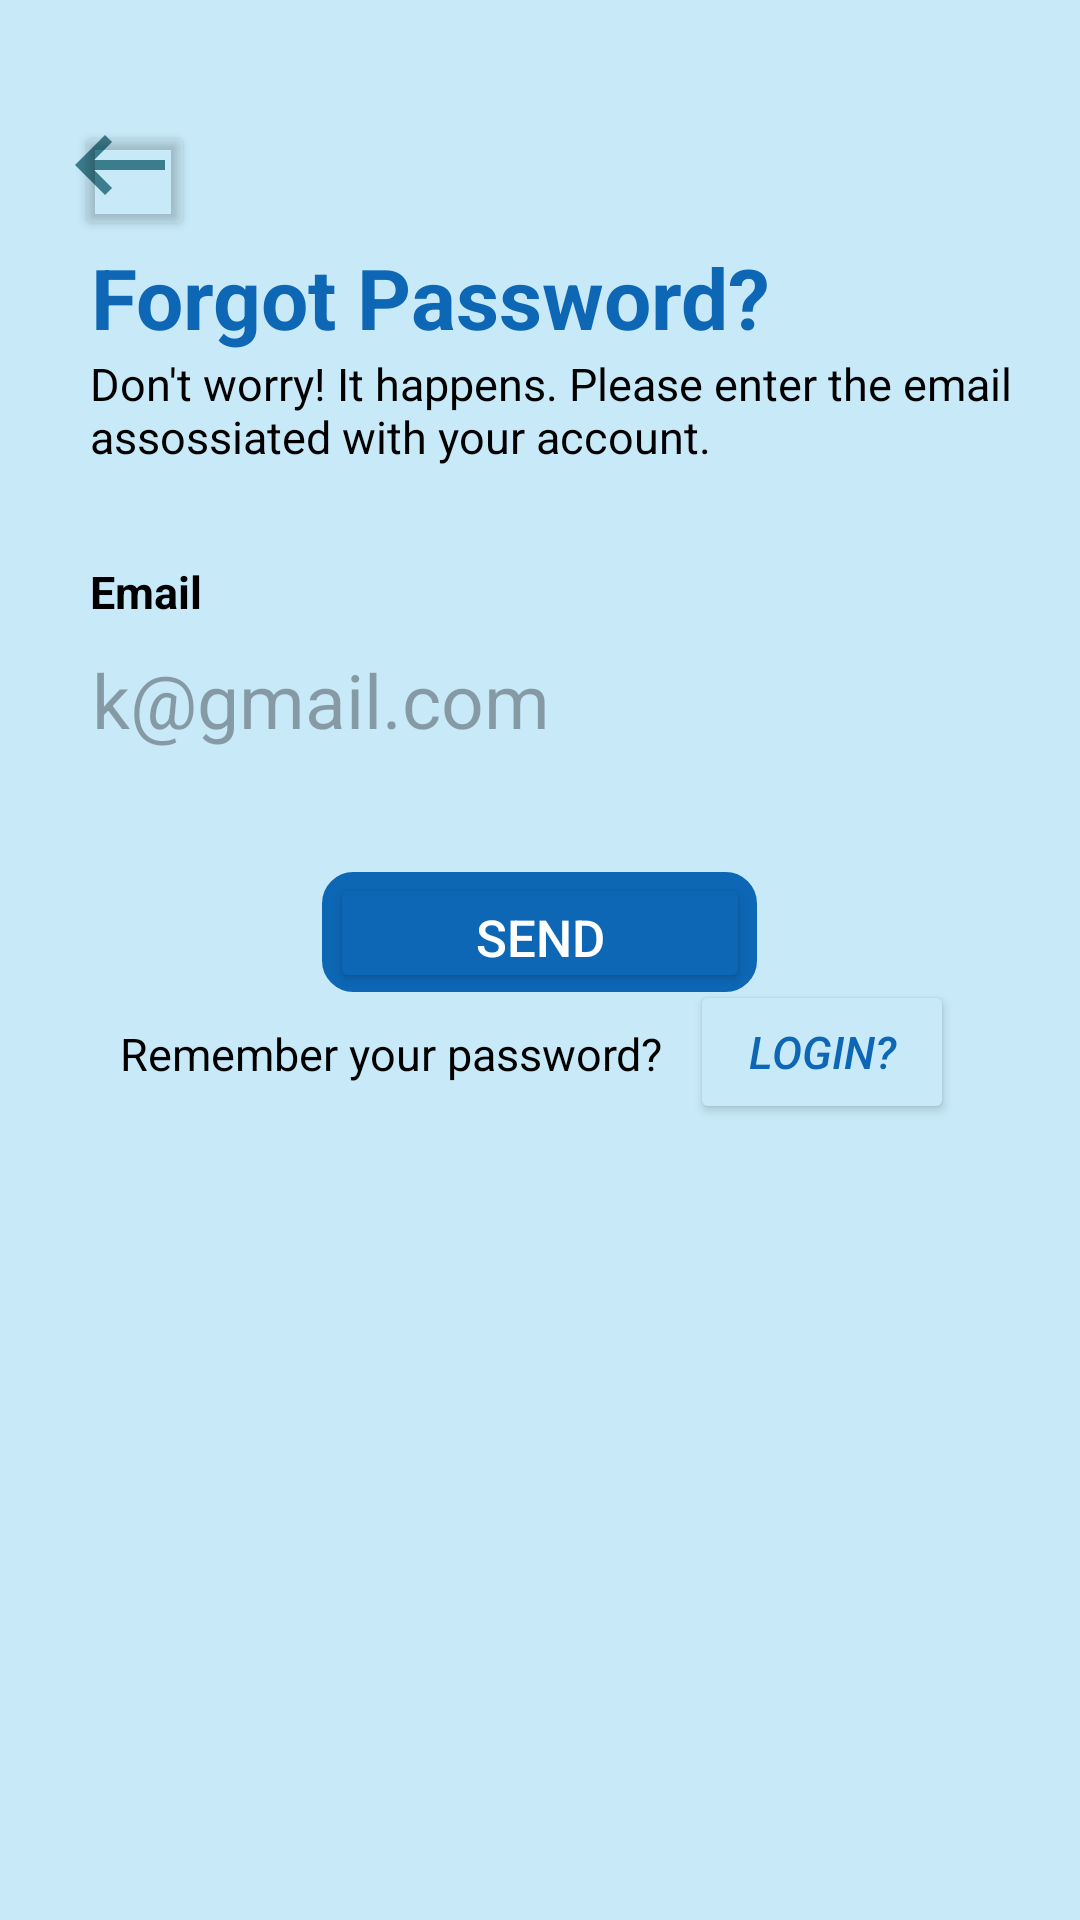

Where to tap for icons on this 1080×1920 app screen, as (x,y):
back: (127,179)
